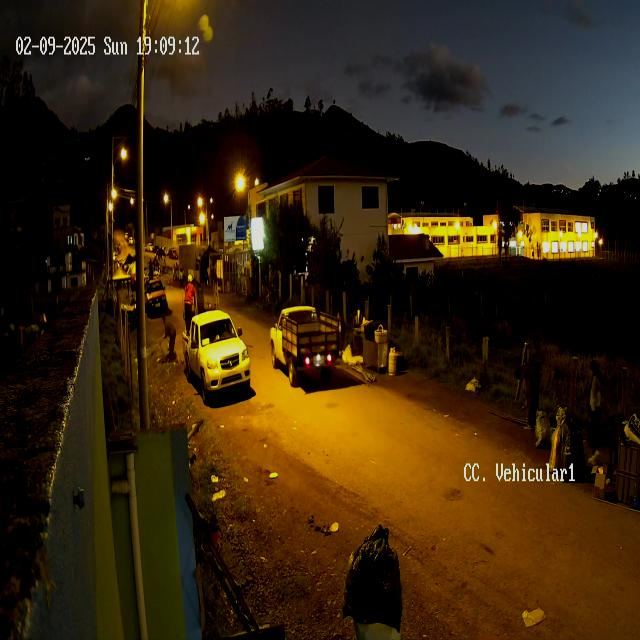CMT: (270, 304, 340, 388)
